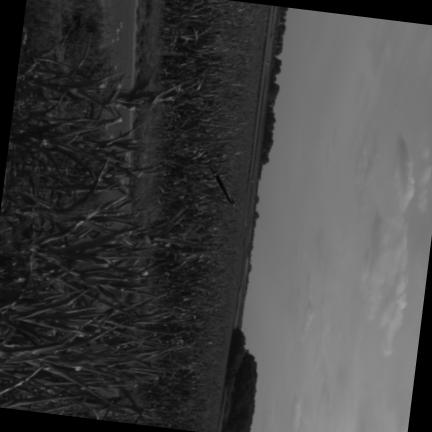Shahed: (209, 165, 233, 205)
